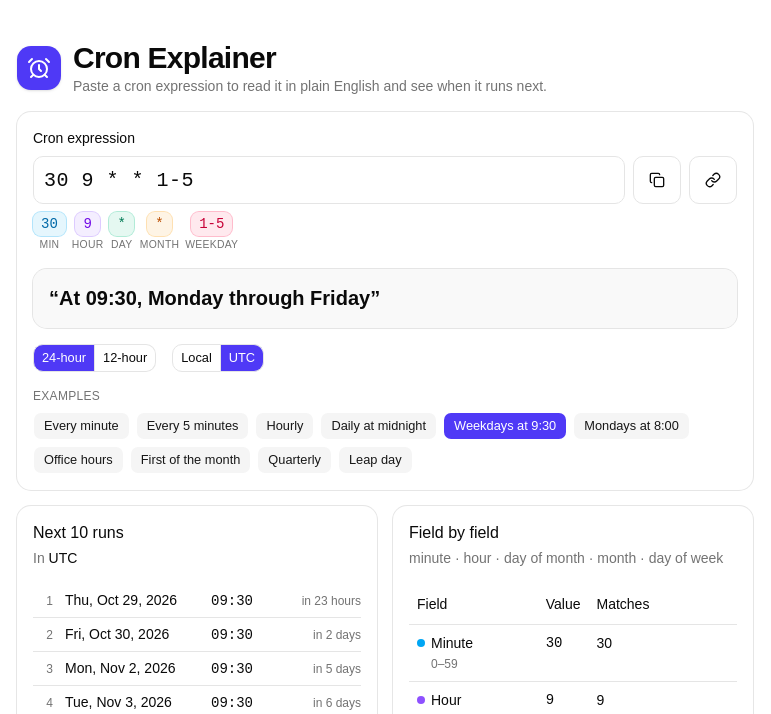
Scenario: display › loads examples and marks the one showing
This screenshot has width=771, height=714.
Click the button "Quarterly". click: (295, 460)
box: x1=257 y1=446 x2=332 y2=474
(page scrolled)
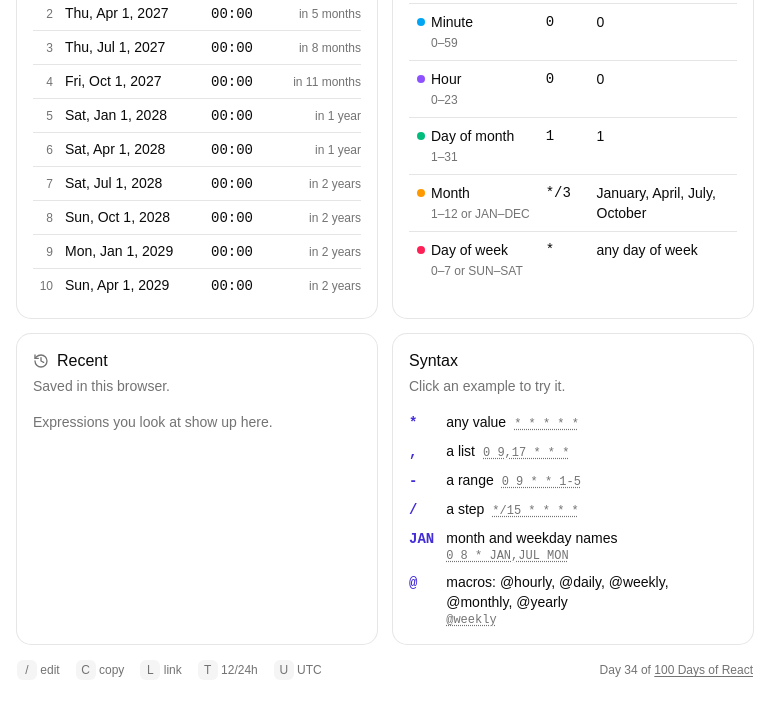
Click the button with aria-label "Try @weekly". click: (471, 620)
box: x1=446 y1=612 x2=497 y2=628
(page scrolled)
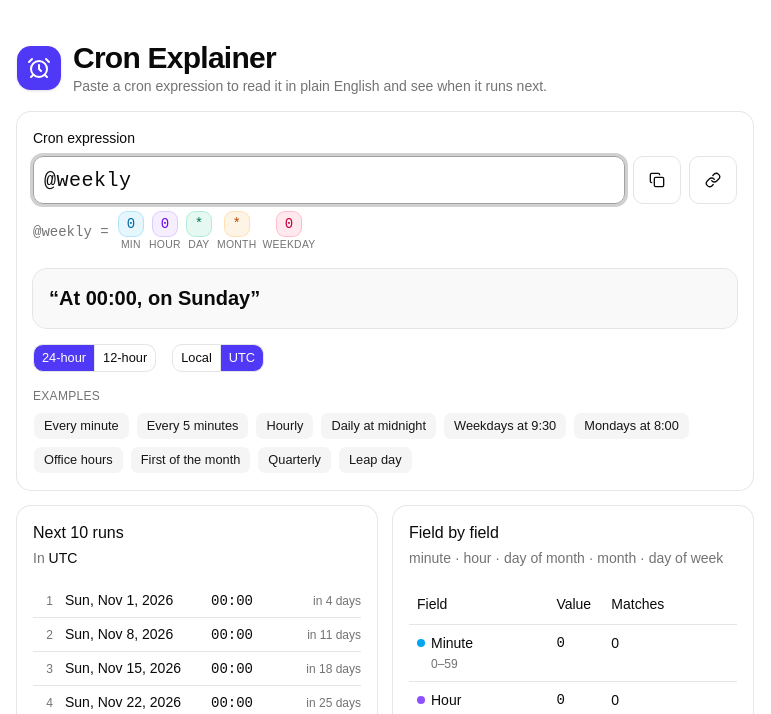
Expected: the text with test id "explanation" reads "“At 00:00, on Sunday”", x1=49 y1=287 x2=260 y2=309
